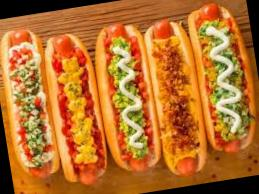Completos: (30, 29, 116, 194), (138, 8, 212, 190), (184, 0, 259, 169), (97, 19, 164, 178), (0, 26, 63, 184)
